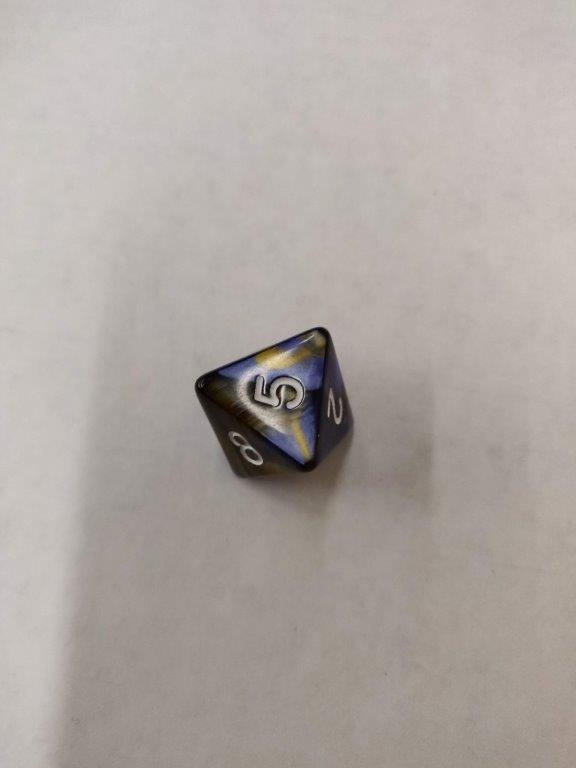d8-5: (194, 325, 356, 482)
